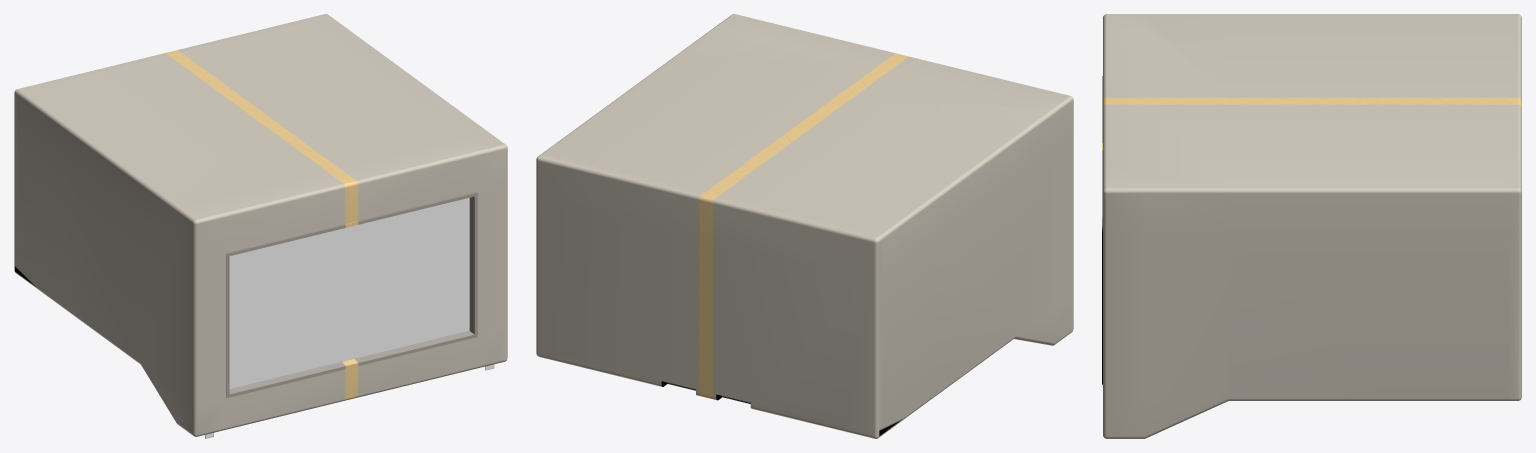
File: head.glb
3 views of the same model, side by side, from view 1: azimuth 30°, elevation 25°; view 2: azimuth 150°, elevation 25°; view 3: azimuth 270°, elevation 25° (orthographic). The views are drawn at different scales.
Parts seen in each view (by area): view 1: BAKED_Wixi - Head; view 2: BAKED_Wixi - Head; view 3: BAKED_Wixi - Head.
Part boxes in pixels (<box>): BAKED_Wixi - Head: <box>14,14,507,438</box>; BAKED_Wixi - Head: <box>536,14,1073,438</box>; BAKED_Wixi - Head: <box>1102,14,1521,438</box>.
Size of the model in its own units: 0.5 by 0.337 by 0.501.
Materials: 1 (1 with a texture image).
